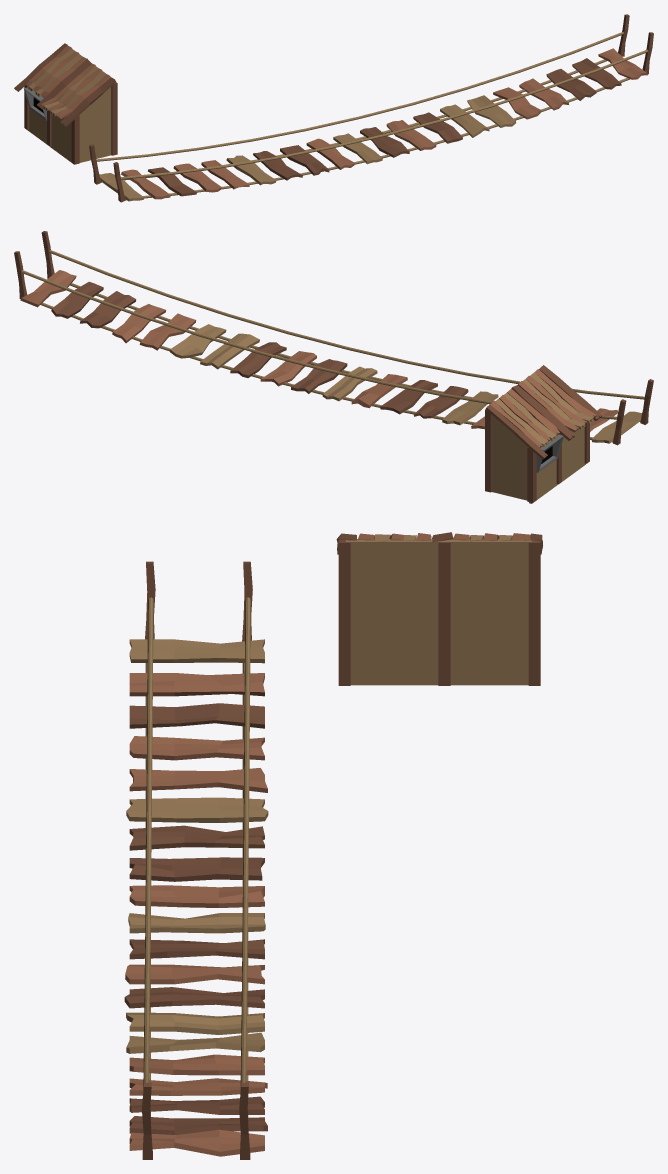
Rendered from HangingBridge.fbx.
3 renders of one model, top to bottom at view 1: azimuth 30°, elevation 25°; view 2: azimuth 150°, elevation 25°; view 3: azimuth 270°, elevation 25°, orthographic. The views are drawn at different scales.
Parts seen in each view (by area): view 1: Cube.198, Cylinder.012, Cylinder.011, Cube.190, Cube.193, Cube.186, Cube.187, Cube.191, Cube.188, Cube.194, Cube.189, Cube.192 (+13 smaller); view 2: Cube.198, Cylinder.012, Cylinder.011, Cube.190, Cube.193, Cube.189, Cube.194, Cube.192, Cube.186, Cube.188, Cube.191, Cube.187 (+9 smaller); view 3: Cube.198, Cube.181, Cylinder.012, Cylinder.011, Cube.183, Cube.177, Cube.176, Cube.178, Cube.184, Cube.179, Cube.182, Cube.180 (+11 smaller).
Boxes of the visible parts, box(x1,y1,x2,y2) form: Cube.198: box(14, 43, 117, 164); Cylinder.012: box(120, 49, 647, 179); Cylinder.011: box(96, 32, 623, 161); Cube.190: box(467, 95, 515, 127); Cube.193: box(546, 69, 596, 100); Cube.186: box(360, 127, 409, 157); Cube.187: box(386, 120, 436, 150); Cube.191: box(493, 87, 541, 119); Cube.188: box(413, 112, 462, 143); Cube.194: box(572, 58, 621, 89); Cube.189: box(440, 104, 489, 137); Cube.192: box(519, 78, 568, 110); Cube.198: box(485, 365, 602, 503); Cylinder.012: box(49, 250, 644, 399); Cylinder.011: box(21, 270, 617, 419); Cube.190: box(169, 324, 226, 358); Cube.193: box(80, 291, 136, 328); Cube.189: box(200, 333, 259, 369); Cube.194: box(51, 281, 103, 318); Cube.192: box(112, 304, 166, 343); Cube.186: box(291, 359, 347, 393); Cube.188: box(230, 342, 286, 377); Cube.191: box(139, 313, 196, 350); Cube.187: box(260, 351, 316, 386); Cube.198: box(336, 532, 542, 685); Cube.181: box(126, 797, 268, 822); Cylinder.012: box(143, 597, 153, 1089); Cylinder.011: box(240, 597, 250, 1088); Cube.183: box(129, 857, 264, 881); Cube.177: box(129, 673, 264, 696); Cube.176: box(129, 639, 264, 663); Cube.178: box(129, 703, 264, 728); Cube.184: box(129, 885, 264, 907); Cube.179: box(129, 736, 264, 760); Cube.182: box(129, 825, 264, 850); Cube.180: box(129, 768, 267, 792).
Bounding box in the file's own units: 1850 × 319 × 618.
